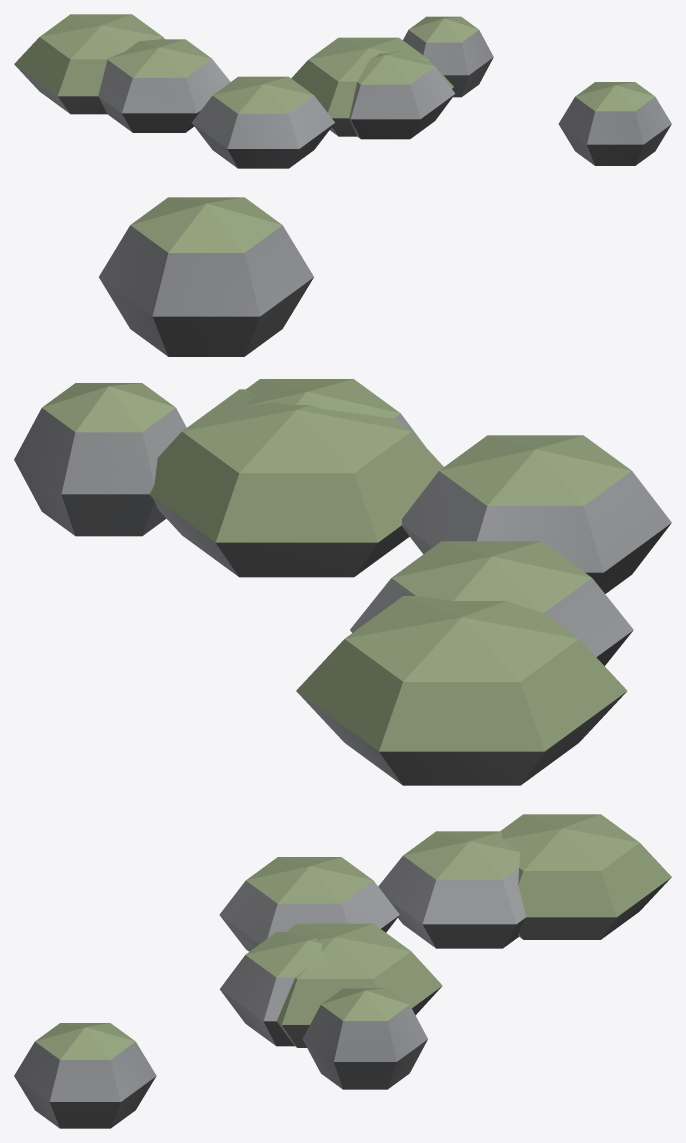
The model's file is Rock_Boulder_Used.fbx.
The picture shows the model from 3 angles, top to bottom: view 1: azimuth 30°, elevation 25°; view 2: azimuth 150°, elevation 25°; view 3: azimuth 270°, elevation 25°; orthographic projection. The views are drawn at different scales.
Parts seen in each view (by area): view 1: Res_Rock_Boulder_Used; view 2: Res_Rock_Boulder_Used; view 3: Res_Rock_Boulder_Used.
Boxes of the visible parts, x1,y1,x2,y2 form: Res_Rock_Boulder_Used: (14,14,671,168); Res_Rock_Boulder_Used: (14,197,671,785); Res_Rock_Boulder_Used: (14,814,671,1128).
Bounding box in the file's own units: 1.4 × 0.24 × 1.47.
